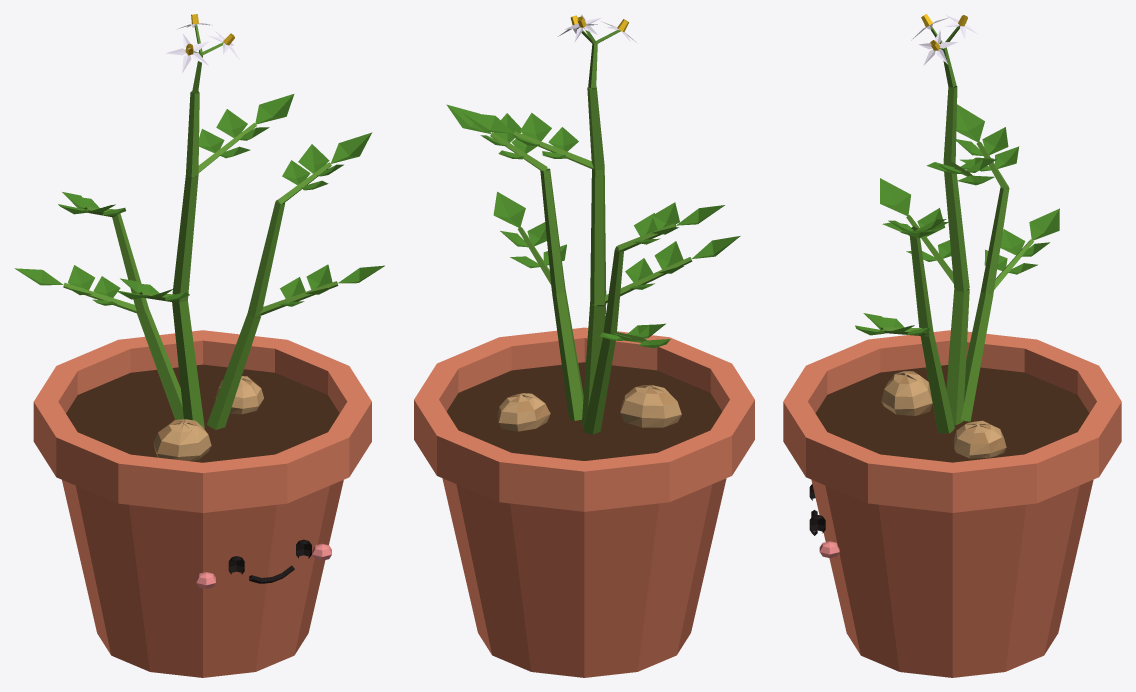
File: potato_stage2.glb
3 renders of one model, left to right at view 1: azimuth 30°, elevation 25°; view 2: azimuth 150°, elevation 25°; view 3: azimuth 270°, elevation 25°, orthographic.
Visible parts, largest first — view 1: potato_stage2_flowering; view 2: potato_stage2_flowering; view 3: potato_stage2_flowering.
Part boxes in pixels (<box>): potato_stage2_flowering: <box>14,14,384,677</box>; potato_stage2_flowering: <box>414,14,754,677</box>; potato_stage2_flowering: <box>783,14,1121,677</box>.
Bounding box in the file's own units: 1.97 × 3.86 × 1.92.
